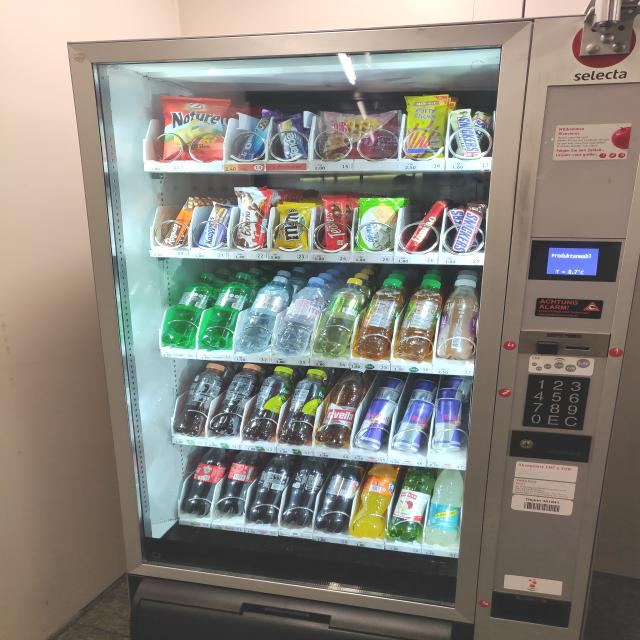bueno___43__4008400320328: (236, 187, 270, 247)
coke__flasche_50__54491472: (179, 448, 224, 515), (212, 452, 257, 516)
coke_zero_flasche_50__5449000131836: (245, 451, 292, 521), (281, 458, 328, 521)
evian___50__3068320353500: (281, 276, 323, 352)
fanta___50__40822938: (351, 464, 396, 537)
fuse_lemon__50__5449000235947: (242, 365, 294, 444), (282, 368, 332, 444)
fuse_peach__50__5449000236623: (214, 358, 266, 436), (176, 362, 227, 439)
knoppers_riegel____4035800488808: (195, 201, 232, 248)
malburner_partysticks__40__7610200279682: (401, 92, 449, 156)
mnms_gelb__45__40111445: (276, 200, 312, 248)
ragusa___50__76401121: (161, 194, 196, 248)
ramseier_jusdepomme__50__7610057001078: (391, 471, 432, 542)
redbull___33__90162909: (390, 400, 436, 451), (427, 396, 465, 452), (357, 398, 397, 451)
snickers___50__5000159461122: (447, 204, 487, 254)
valser_classic__50__76404160: (199, 268, 250, 351), (159, 274, 212, 348)
valser_still__50__7610335002575: (238, 275, 291, 351)
volvic_teeminze__50__3057640335648: (402, 279, 444, 360), (363, 276, 403, 354)
